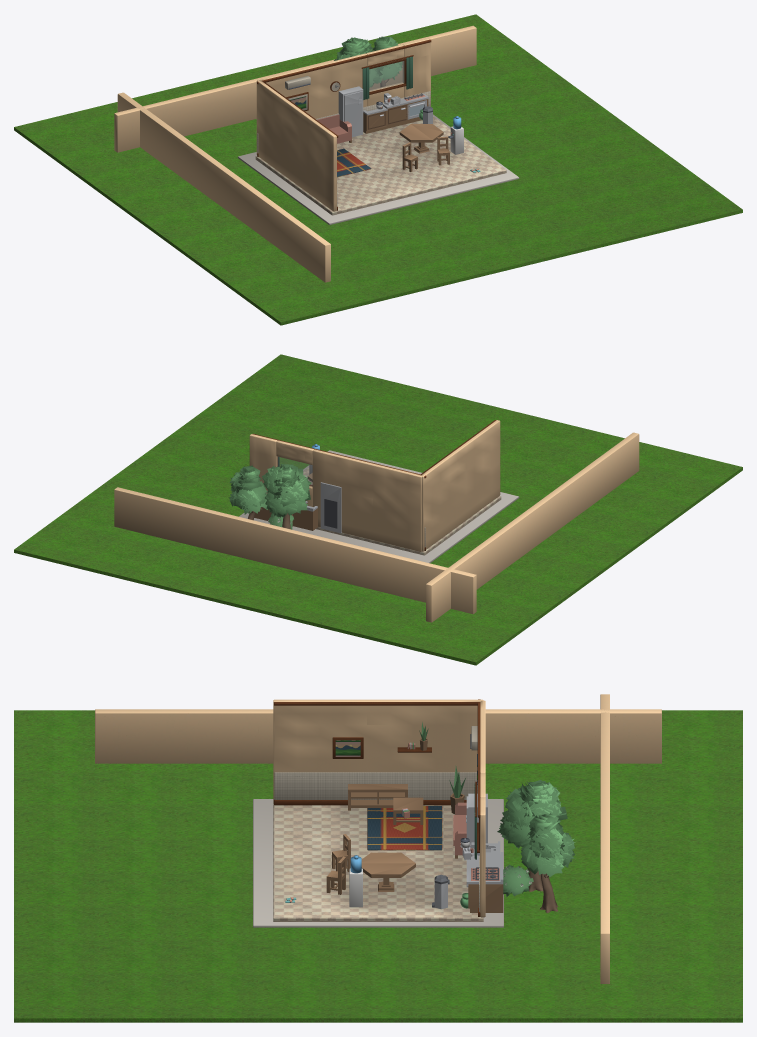
The model's file is room_majikan_living.glb.
3 renders of one model, top to bottom at view 1: azimuth 30°, elevation 25°; view 2: azimuth 150°, elevation 25°; view 3: azimuth 270°, elevation 25°, orthographic. The views are drawn at different scales.
Parts seen in each view (by area): view 1: OuterYard, YardFenceLeft, FloorSlab, YardFenceBack, WallLeft, YardPatio, WallBack_Left, WallBack_Right, WinGlass, tableRound(Clone), CommonTree_1, CommonTree_2 (+3 smaller); view 2: OuterYard, YardFenceBack, YardFenceLeft, WallBack_Left, WallLeft, YardPatio, CommonTree_1, CommonTree_2, kitchenFridge(Clone), WallBack_Right, FloorSlab, WallBack_Top; view 3: OuterYard, YardFenceLeft, FloorSlab, WallLeft, YardPatio, WainscotLeft, LivingRug, CommonTree_2, YardFenceBack, CommonTree_1, kitchenStove(Clone), tableRound(Clone) (+7 smaller).
Boxes of the visible parts, x1=… form: OuterYard: x1=14, y1=14, x2=742, y2=325; YardFenceLeft: x1=117, y1=92, x2=330, y2=282; FloorSlab: x1=255, y1=116, x2=506, y2=215; YardFenceBack: x1=114, y1=25, x2=476, y2=152; WallLeft: x1=256, y1=80, x2=336, y2=211; YardPatio: x1=237, y1=114, x2=519, y2=224; WallBack_Left: x1=257, y1=53, x2=367, y2=118; WallBack_Right: x1=402, y1=38, x2=430, y2=106; WinGlass: x1=369, y1=61, x2=403, y2=91; tableRound(Clone): x1=399, y1=124, x2=443, y2=153; CommonTree_1: x1=334, y1=37, x2=382, y2=87; CommonTree_2: x1=372, y1=36, x2=402, y2=87; OuterYard: x1=14, y1=354, x2=742, y2=665; YardFenceBack: x1=114, y1=487, x2=476, y2=614; YardFenceLeft: x1=426, y1=432, x2=639, y2=622; WallBack_Left: x1=312, y1=449, x2=421, y2=551; WallLeft: x1=421, y1=420, x2=500, y2=551; YardPatio: x1=239, y1=450, x2=519, y2=563; CommonTree_1: x1=262, y1=464, x2=311, y2=529; CommonTree_2: x1=228, y1=465, x2=267, y2=520; kitchenFridge(Clone): x1=320, y1=482, x2=341, y2=533; WallBack_Right: x1=249, y1=434, x2=277, y2=490; FloorSlab: x1=303, y1=467, x2=501, y2=555; WallBack_Top: x1=276, y1=440, x2=313, y2=464; OuterYard: x1=14, y1=710, x2=742, y2=1022; YardFenceLeft: x1=95, y1=709, x2=661, y2=763; FloorSlab: x1=273, y1=804, x2=483, y2=921; WallLeft: x1=273, y1=699, x2=483, y2=803; YardPatio: x1=253, y1=799, x2=503, y2=927; WainscotLeft: x1=274, y1=772, x2=477, y2=799; LivingRug: x1=367, y1=806, x2=442, y2=850; CommonTree_2: x1=520, y1=813, x2=575, y2=912; YardFenceBack: x1=600, y1=694, x2=609, y2=983; CommonTree_1: x1=497, y1=779, x2=567, y2=891; kitchenStove(Clone): x1=466, y1=865, x2=503, y2=912; tableRound(Clone): x1=361, y1=852, x2=415, y2=891.
Size of the model in its own units: 18 by 3.1 by 18.
69 materials, 8 textured.
